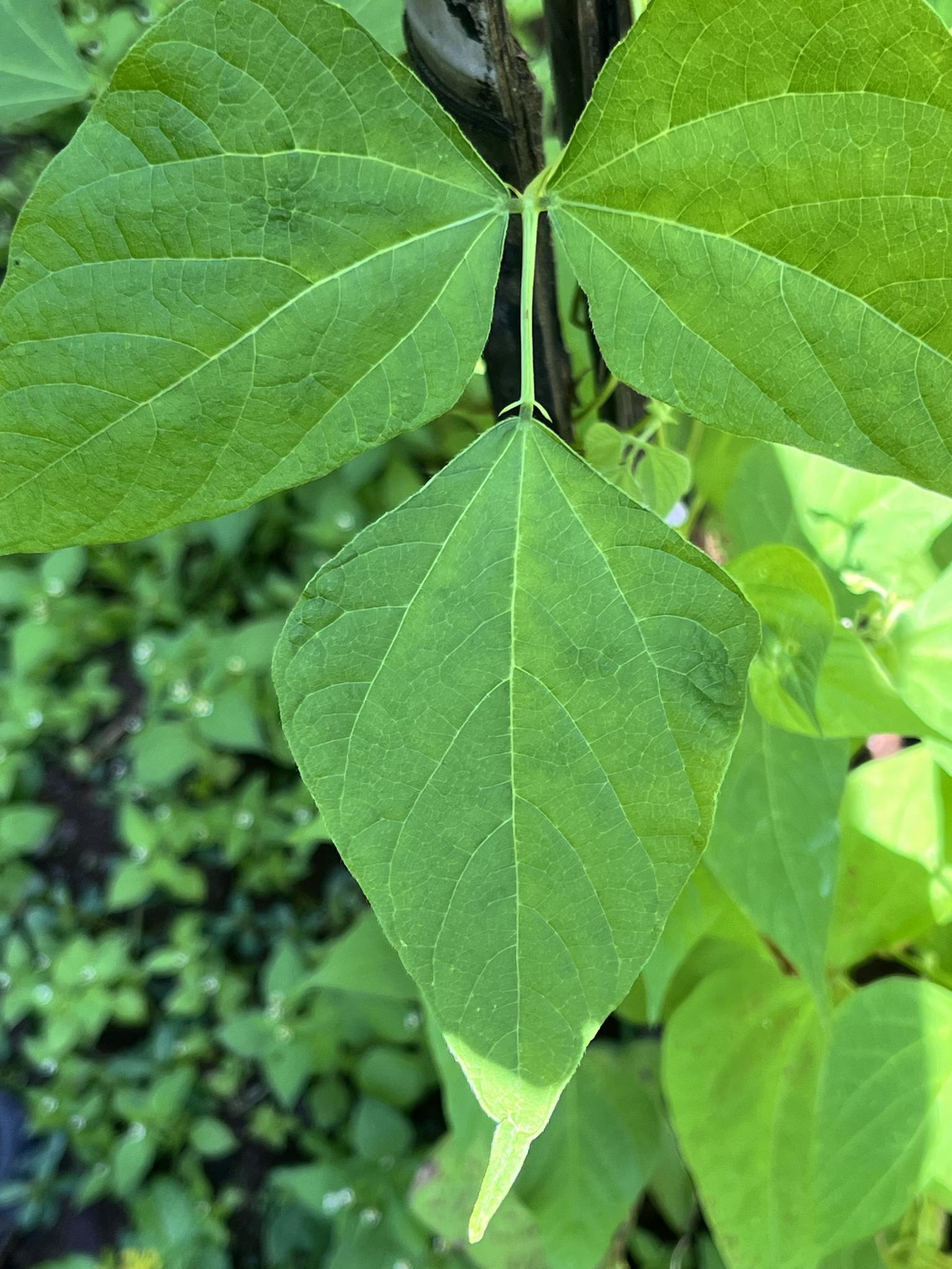sehat: (255, 410, 759, 1269), (0, 0, 513, 553)
